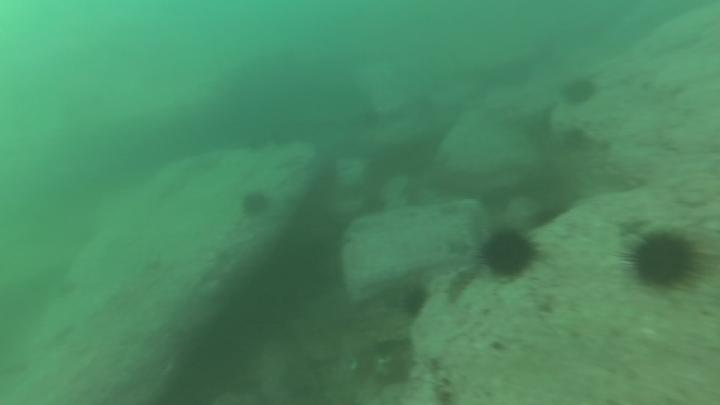echinus: (618, 222, 709, 295), (475, 222, 543, 286), (397, 280, 432, 320), (561, 74, 601, 109), (238, 188, 272, 220)
holothurian: (445, 263, 486, 307)
starfish: (433, 200, 466, 222), (444, 235, 475, 258), (274, 152, 308, 172)
